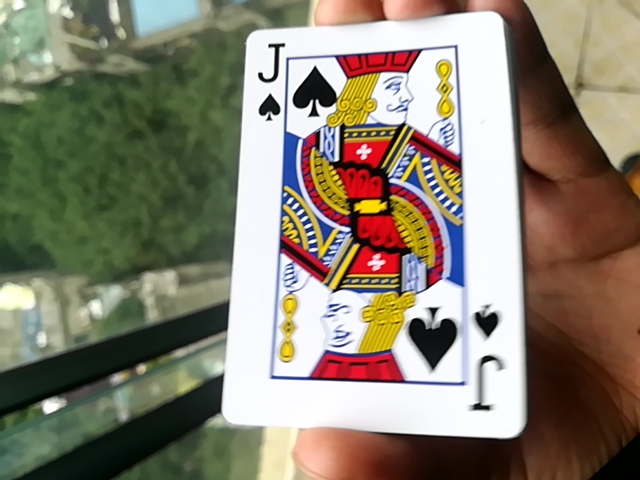ht j: (215, 7, 524, 439)
